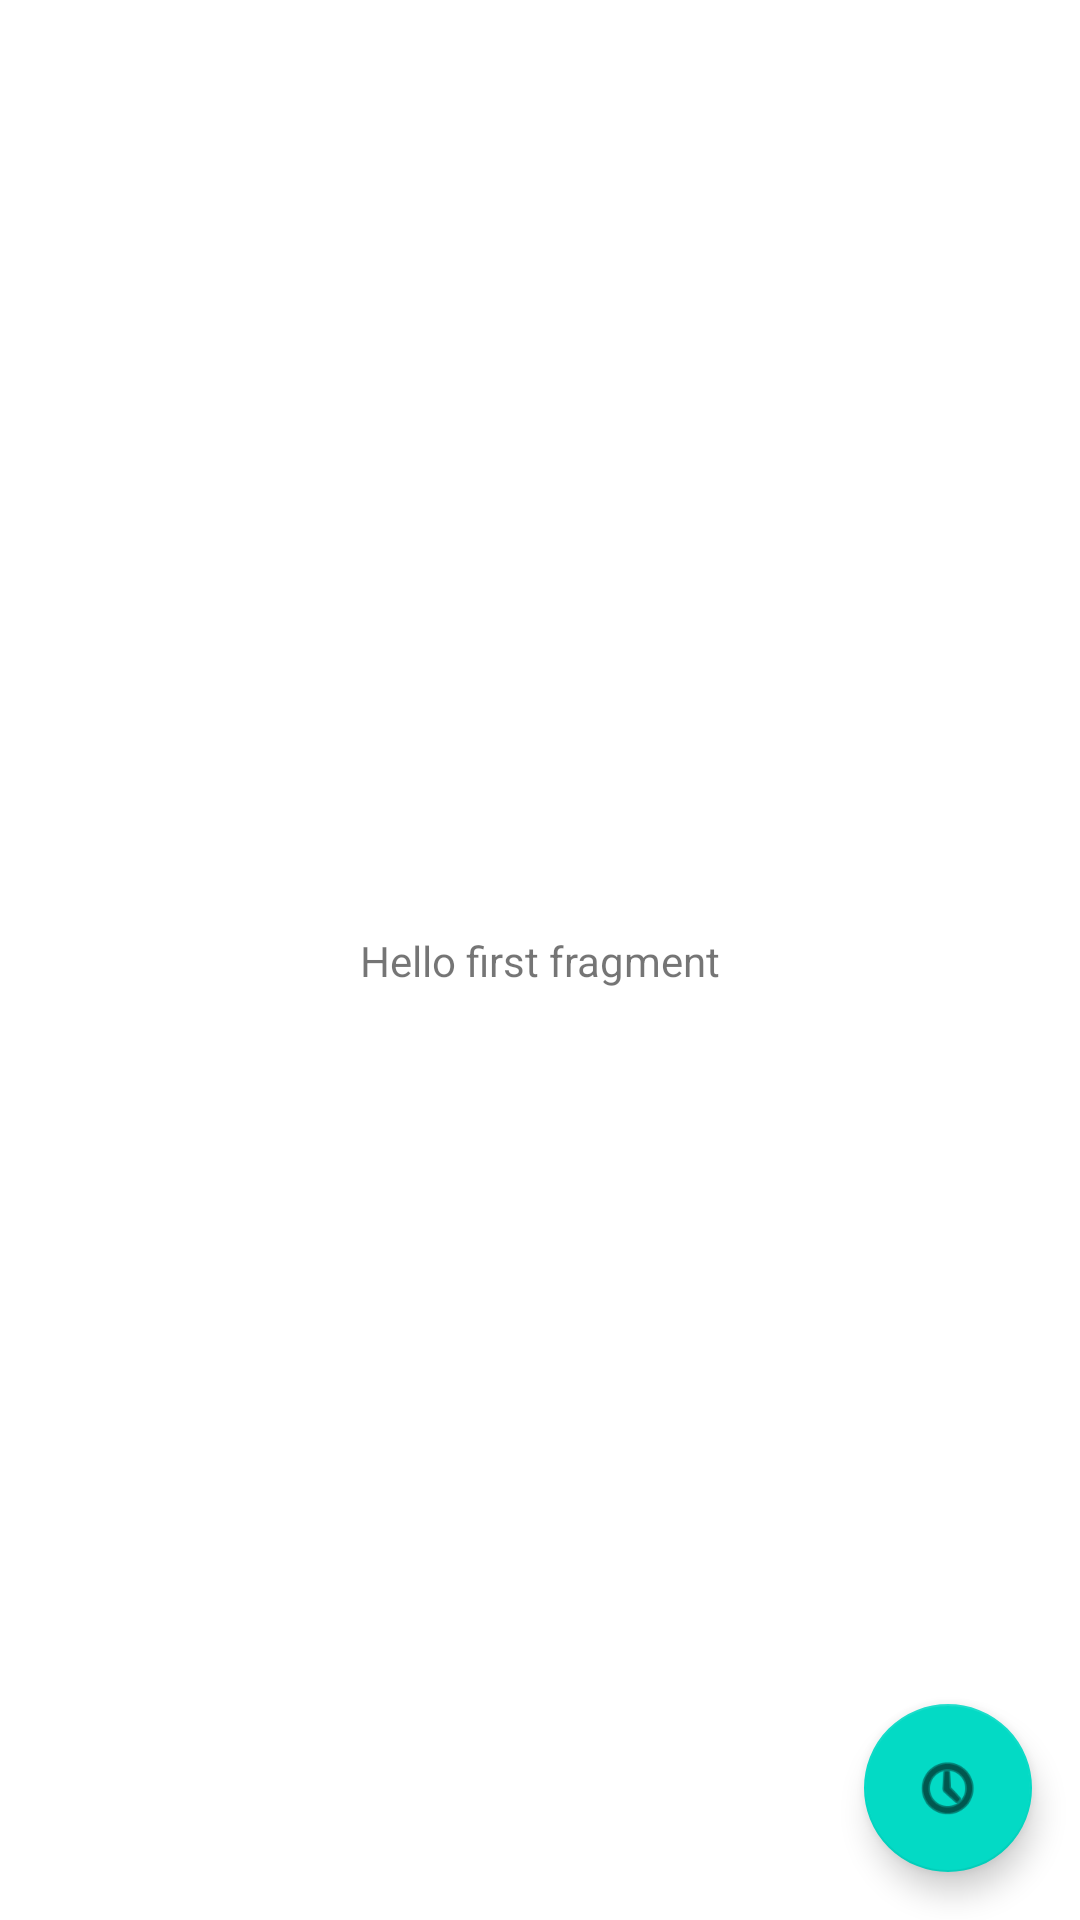

Locate icon controls on the screen. Image size 1080x1920, boxes as (x1, y1, x2, y2).
recent history: (864, 1704, 1032, 1872)
